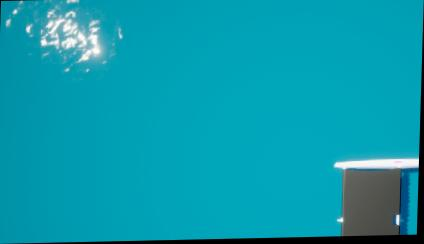boat: (328, 156, 420, 238)
drone: (342, 171, 401, 238)
land_base: (0, 0, 140, 85)
